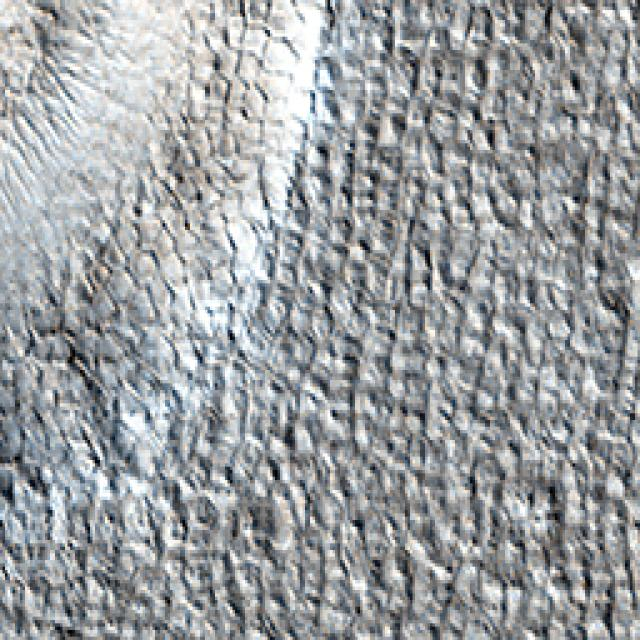Crater: (0, 0, 380, 563)
